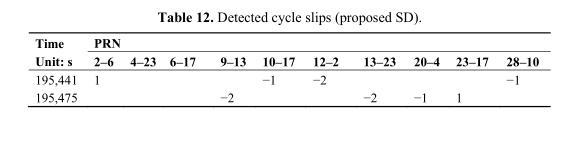table: (34, 35, 538, 104)
table column: (350, 35, 404, 104), (34, 35, 84, 104), (253, 35, 303, 104), (447, 35, 496, 104), (303, 35, 350, 104), (207, 35, 253, 104), (162, 35, 207, 104), (404, 35, 447, 104), (496, 35, 538, 104), (121, 35, 162, 104), (84, 35, 121, 104)
table column header: (34, 35, 538, 69)
table row: (34, 69, 538, 88), (34, 51, 538, 69), (34, 35, 538, 51), (34, 88, 538, 104)
table spanning cell: (84, 35, 538, 51), (34, 35, 84, 69)
